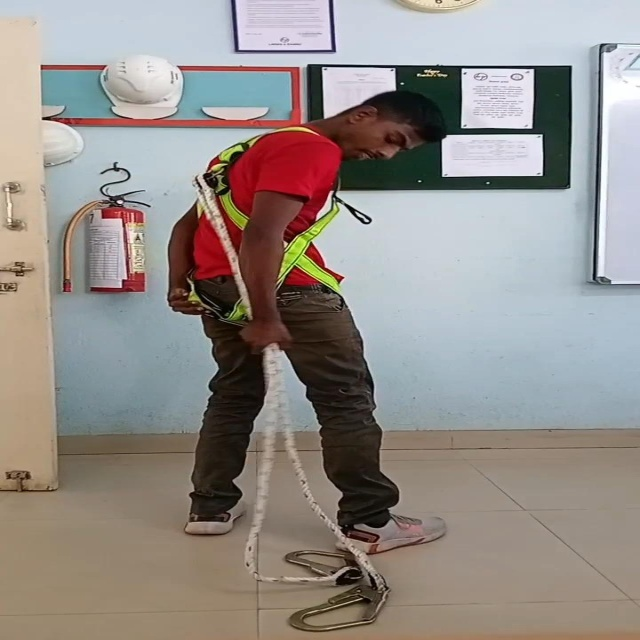Arnes_seguridad: (163, 126, 363, 333)
